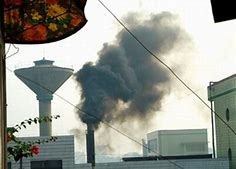smoke: (73, 30, 168, 127)
